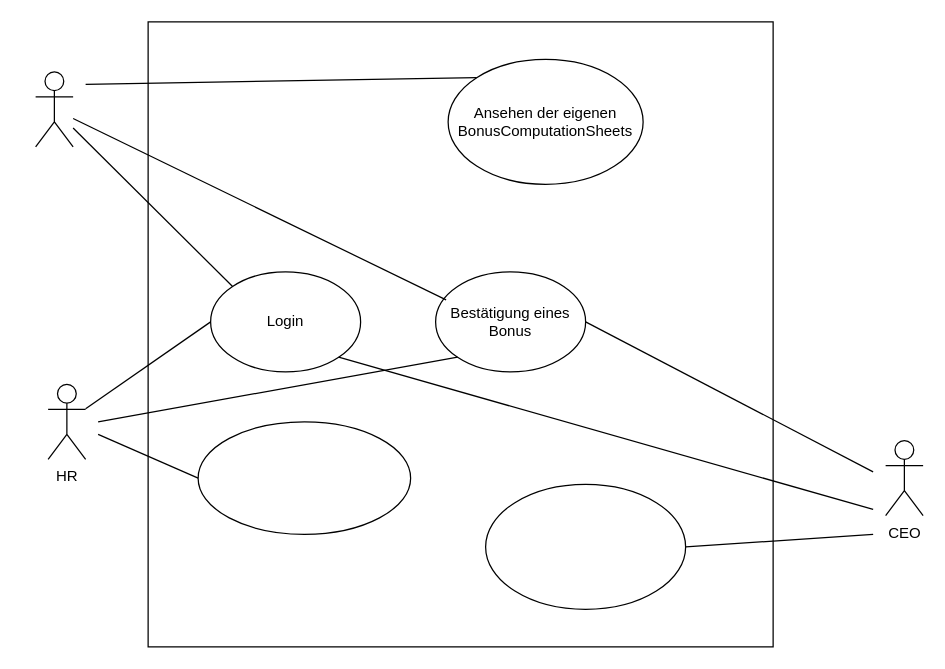
Image size: 945x669. Some labels were removed from this diagram. Each missing label, with the centre of its shape:
"Ansehen aller BonusComputationSheets" goes at point 585,546.
"Ansehen der Status aller BonusComputationSheets" goes at point 304,477.
"Salesman" goes at point 53,109.
